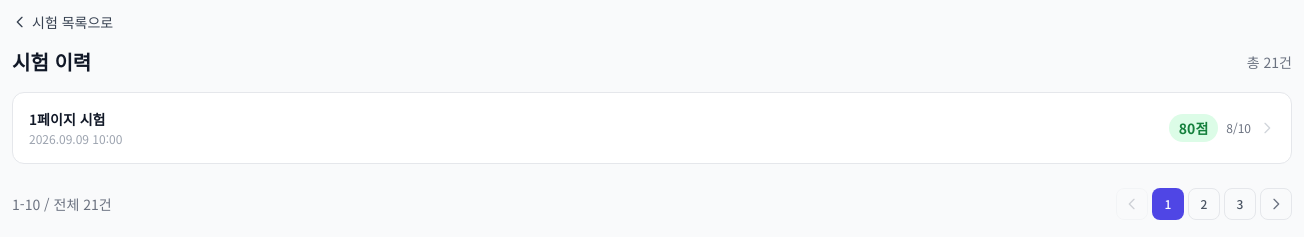
it: ExamHistoryPage 페이지네이션 › 기존 10개 조회 계약을 유지하며 공용 페이지 표시로 다음 이력을 조회한다
This screenshot has width=1304, height=237.
Expected: the text "1페이지 시험" is shown, [29,109,106,129]
Expected: the text "1-10 / 전체 21건" is shown, [12,194,112,214]
What coordinates should you click on to do the following:
click the button named "다음 페이지"
I would click on:
 (1276, 204)
Its box is [1260,188,1292,220].
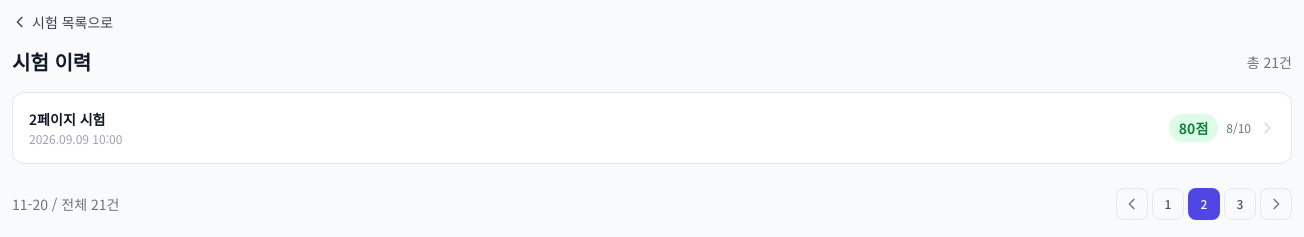
Result: the text "2페이지 시험" is shown at [29,109,106,129]
